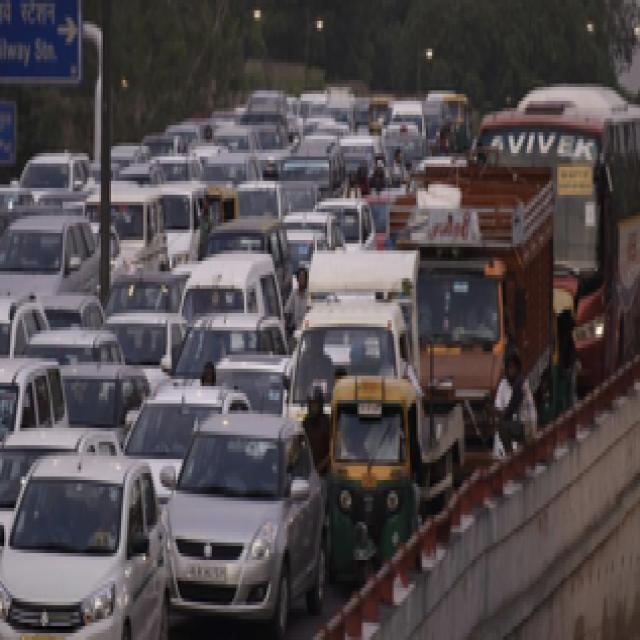license_plate: (16, 622, 72, 640), (190, 560, 230, 584)
